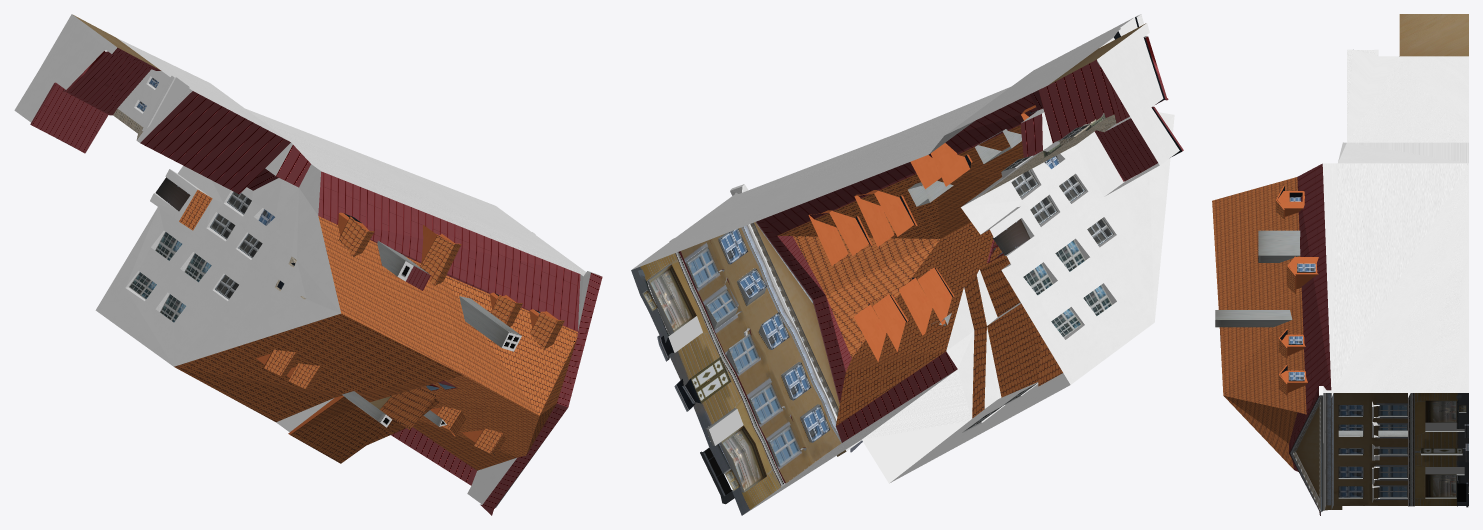
Rendered from Pikk_33-origo.obj.
3 renders of one model, left to right at view 1: azimuth 30°, elevation 25°; view 2: azimuth 150°, elevation 25°; view 3: azimuth 270°, elevation 25°, orthographic. The views are drawn at different scales.
Visible parts, largest first — view 1: Pikk_33; view 2: Pikk_33; view 3: Pikk_33.
Boxes of the visible parts, x1,y1,x2,y2 form: Pikk_33: (14,14,602,515); Pikk_33: (631,14,1183,515); Pikk_33: (1212,14,1468,515).
Bounding box in the file's own units: 37.44 × 37 × 22.47.
